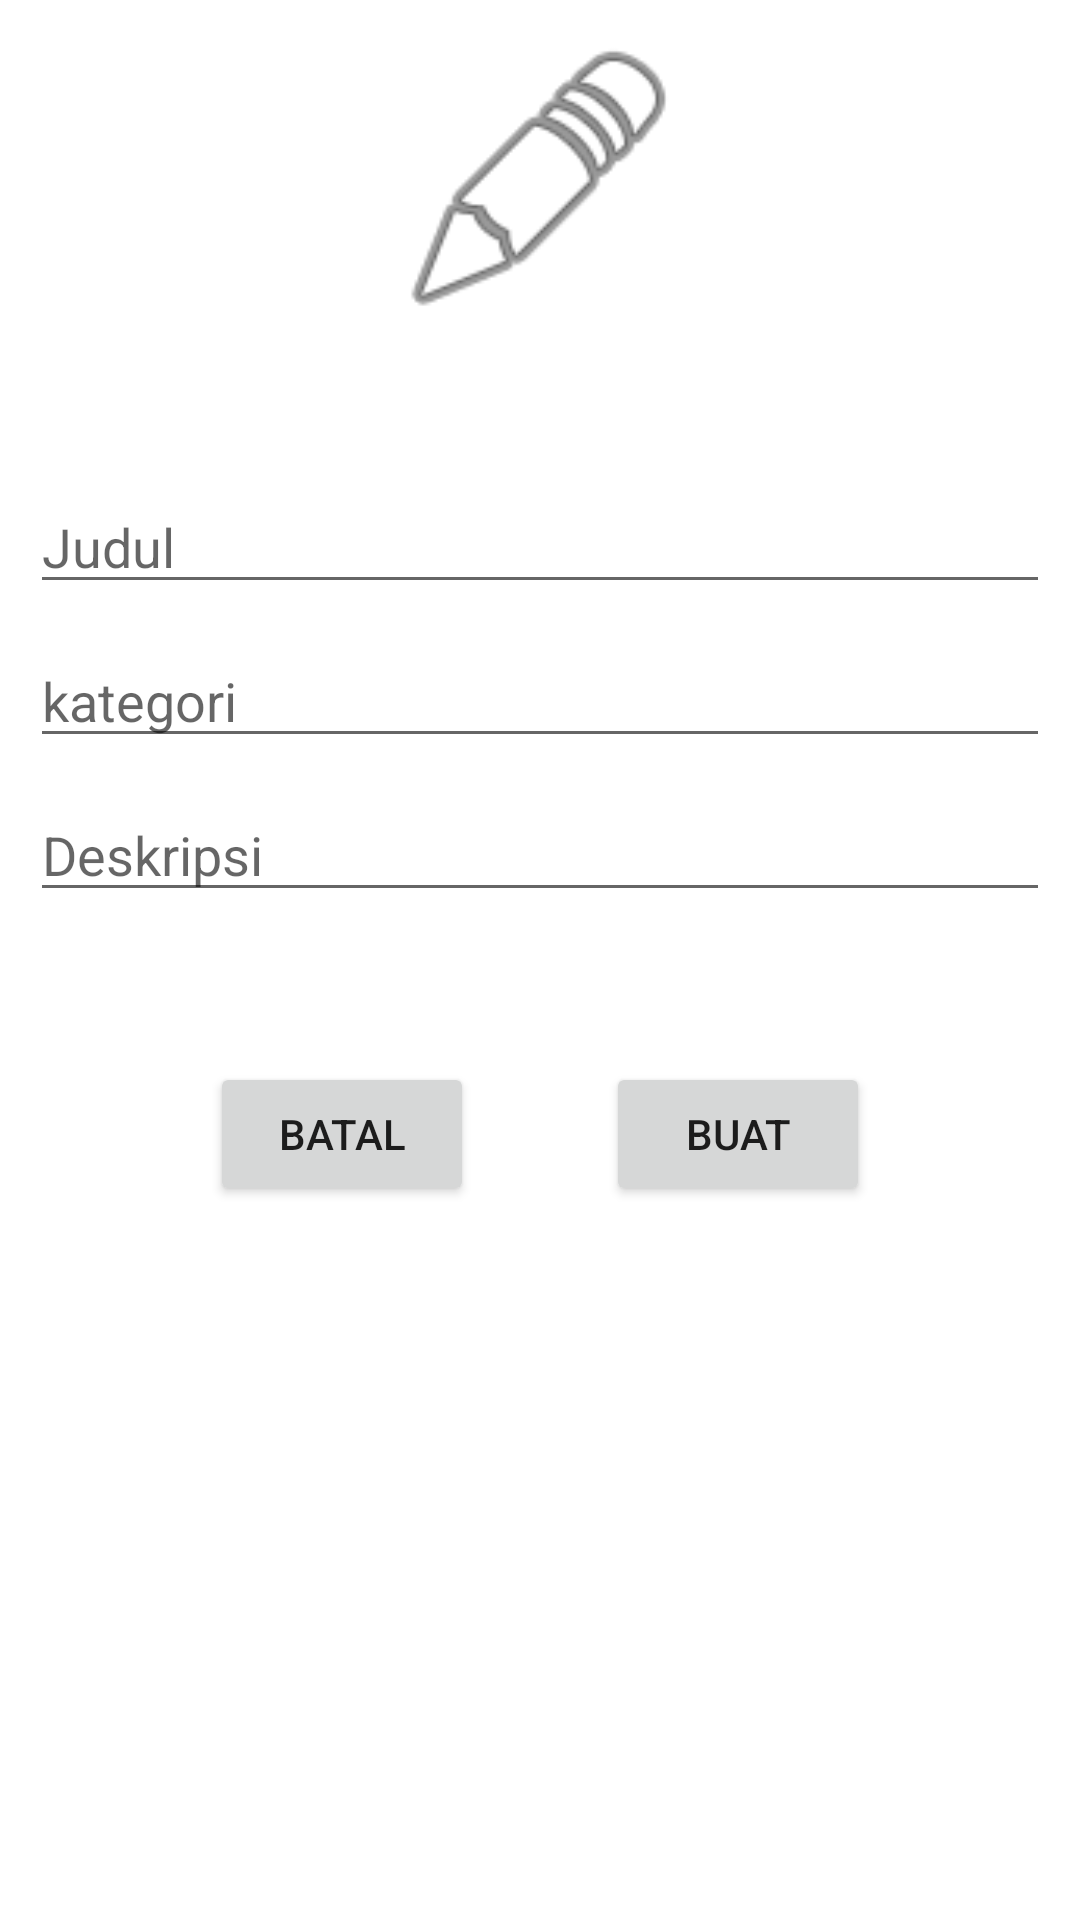

Point at icon controls on the screen. Image size 1080 x 1920, points as (x=x, y=y).
edit: (x=539, y=178)
